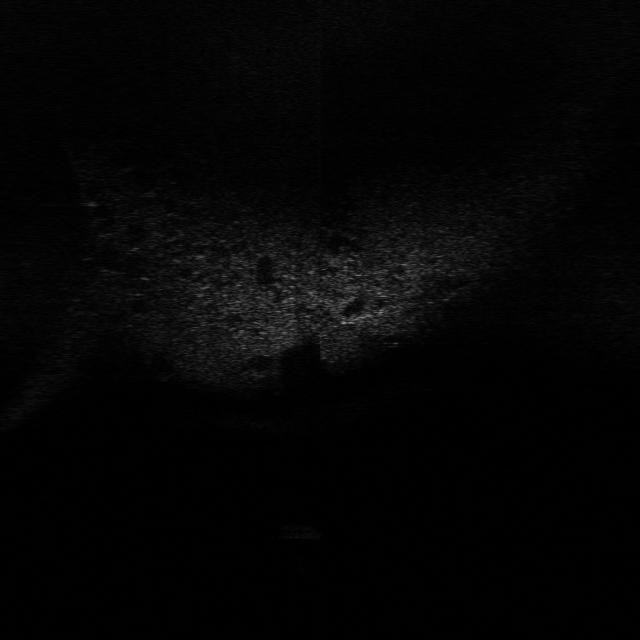cube: (274, 519, 324, 544)
